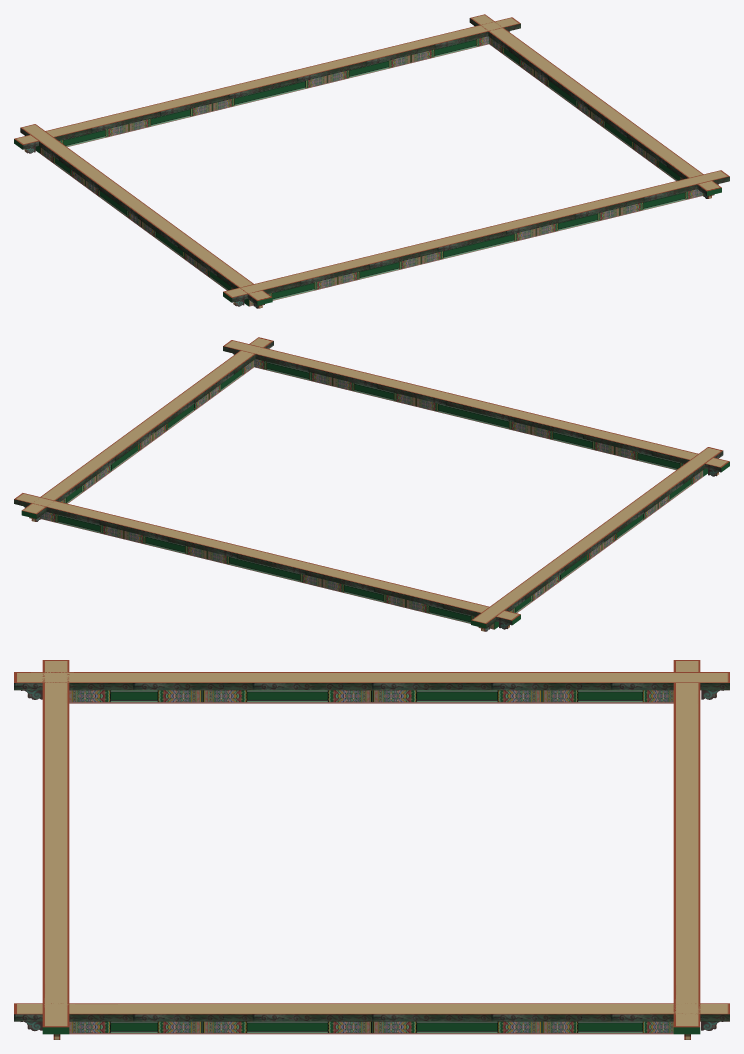
File: SM_Geumsan_Mi_Bang_A.fbx
3 views of the same model, one above another, from view 1: azimuth 30°, elevation 25°; view 2: azimuth 150°, elevation 25°; view 3: azimuth 270°, elevation 25° (orthographic). The views are drawn at different scales.
Parts seen in each view (by area): view 1: SM_Geumsan_Mi_Bang_A; view 2: SM_Geumsan_Mi_Bang_A; view 3: SM_Geumsan_Mi_Bang_A.
Part boxes in pixels (box(x1,y1,x2,y2)): SM_Geumsan_Mi_Bang_A: box(14, 14, 729, 308); SM_Geumsan_Mi_Bang_A: box(14, 337, 729, 631); SM_Geumsan_Mi_Bang_A: box(14, 660, 729, 1039).
Size of the model in its own units: 1970 by 54.58 by 1623.
